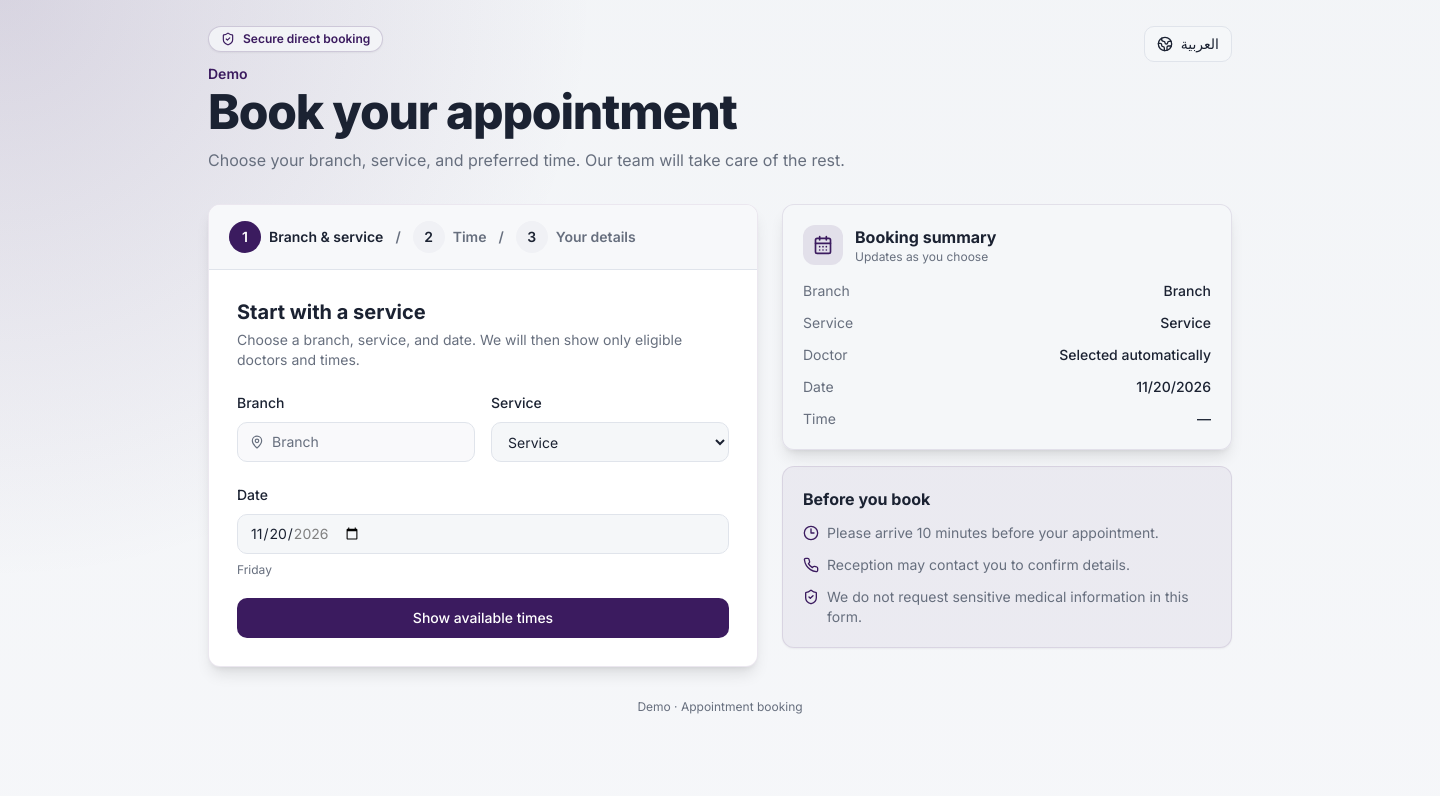
Test: the guest booking form caps each field where the RPC caps it (P6) › gives every typed field the booking RPC's own length limit
This screenshot has width=1440, height=796.
Step 1. Click the button "Show available times" → [483, 618], box [237,598,729,638]
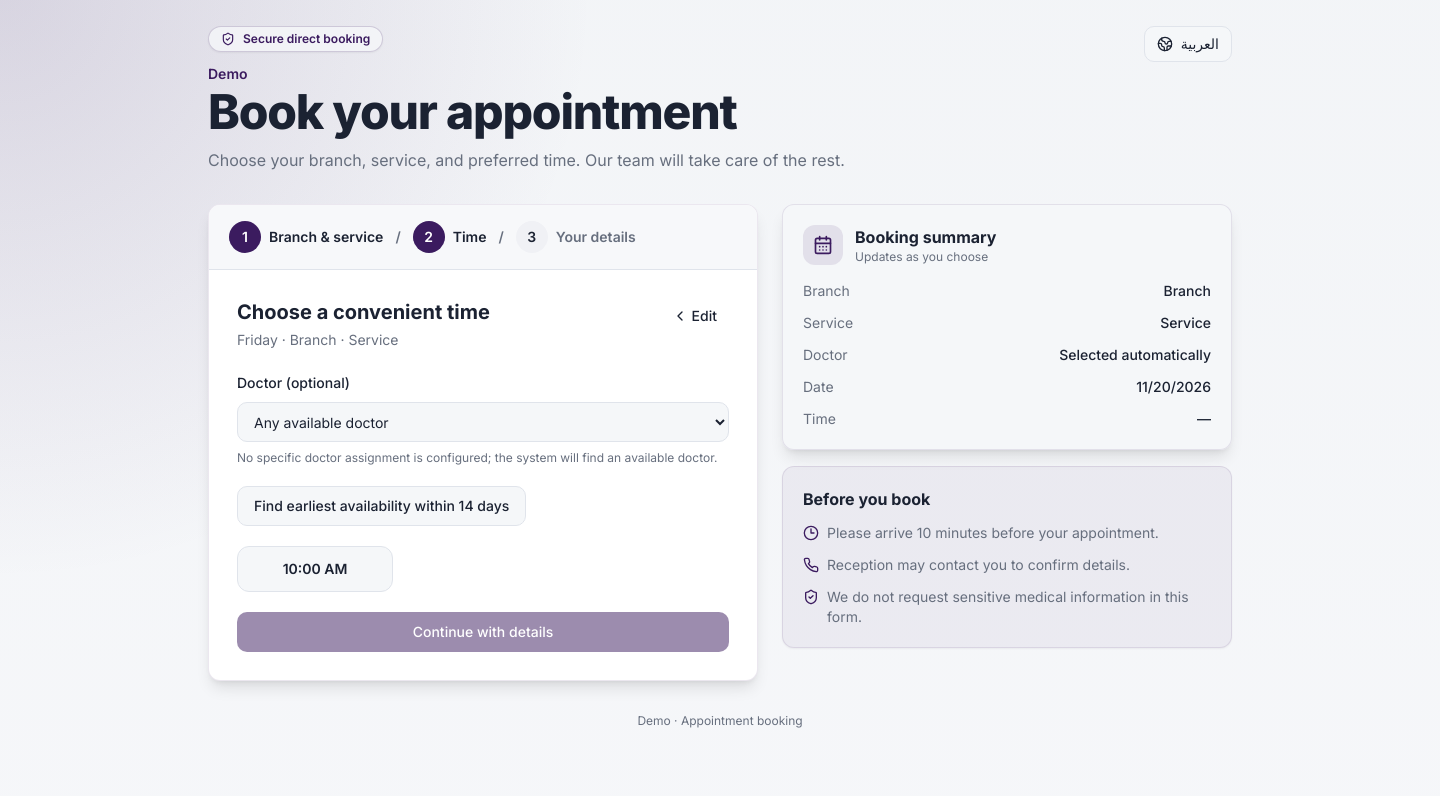
Step 2. Click the button "10:00 AM" → [315, 569], box [237,546,393,592]
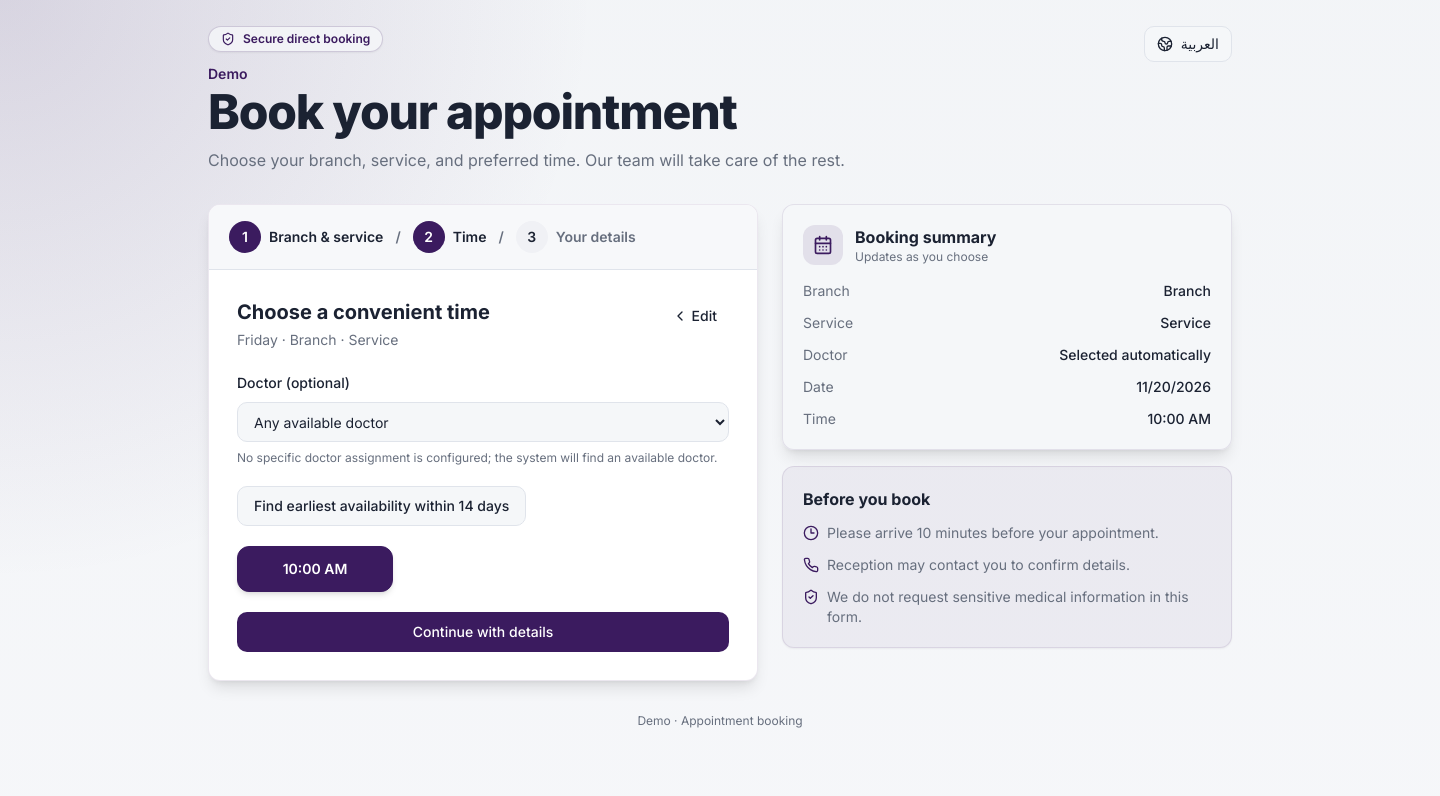
Step 3. Click the button "Continue with details" → [483, 632], box [237,612,729,652]
(page scrolled)
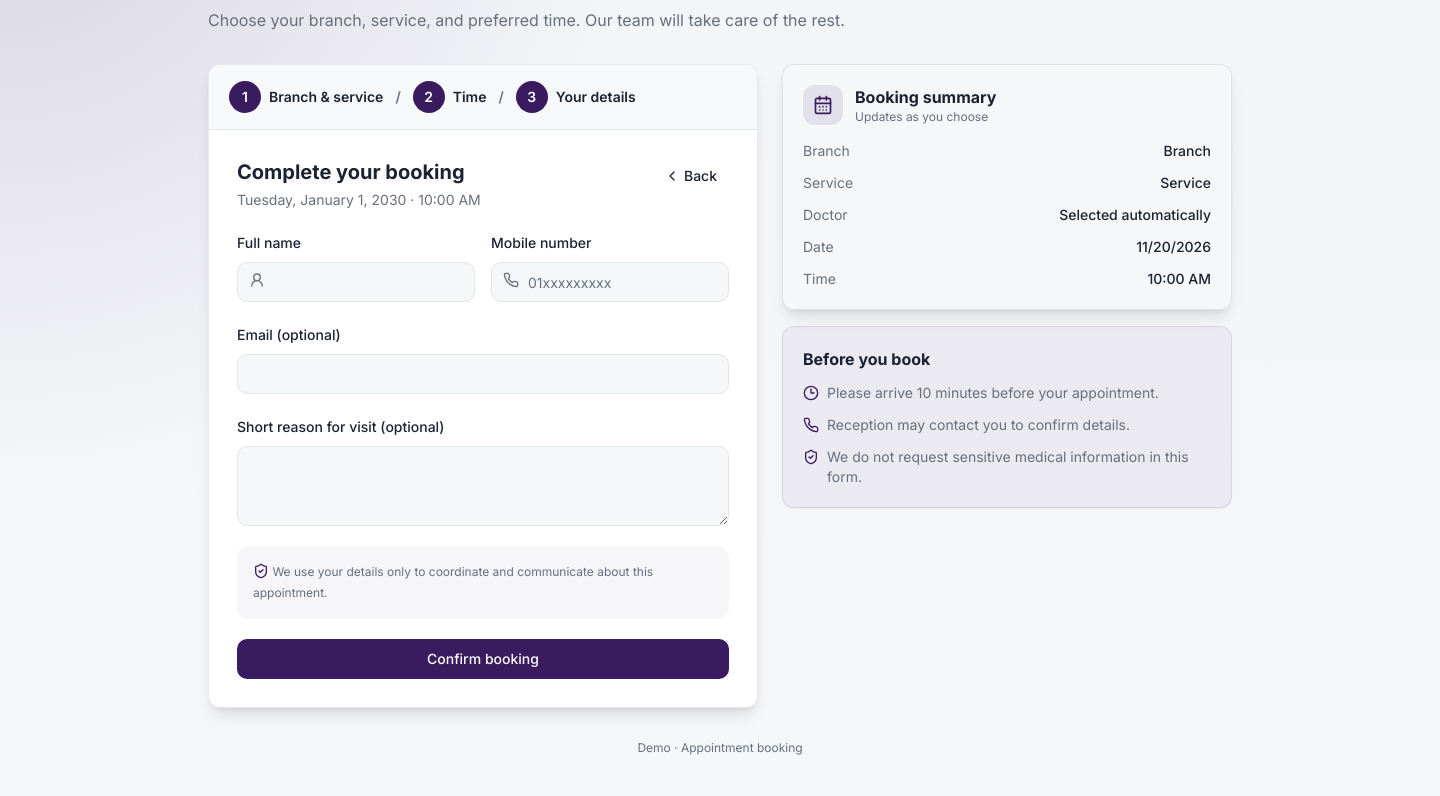
Now the button "Confirm booking" is shown, box [237,639,729,679]
